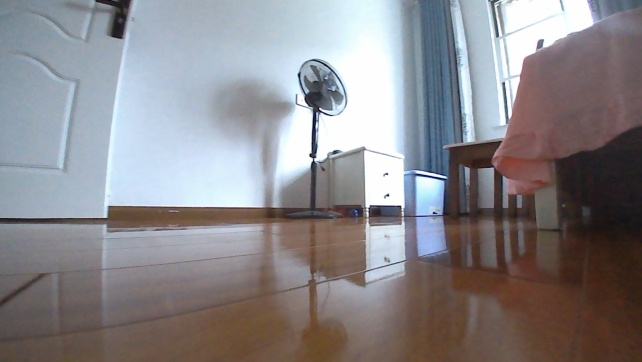bed1: (489, 0, 641, 229)
chair_base: (283, 208, 342, 221)
door_anno: (0, 0, 139, 220)
